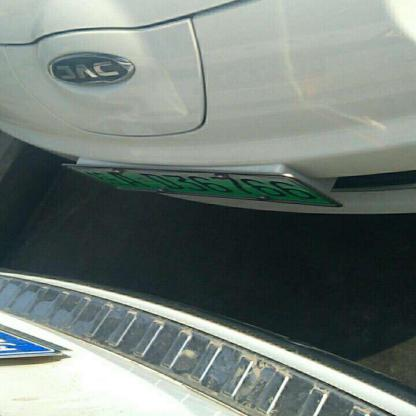lp: (63, 164, 340, 204)
